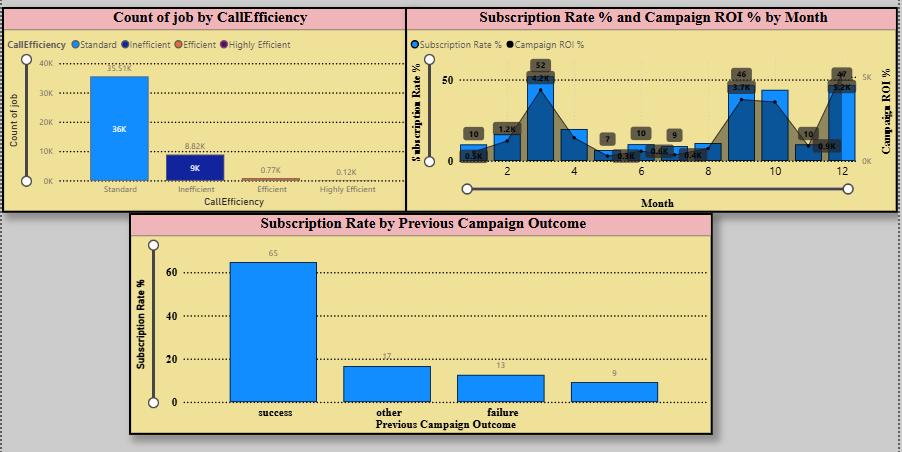

What the dashboard file says about the page in this screenshot:
{"tool":"powerbi","page":{"name":"Campaign Optimization Analysis","canvas":[1280,720],"ordinal":2},"visuals":[{"type":"columnChart","title":"Count of job by CallEfficiency","fields":{"Y":["CountNonNull(bank-full.job)"],"Category":["bank-full.CallEfficiency"],"Series":["bank-full.CallEfficiency"]},"box":[0,47.1,588.6,294.3],"z":0},{"type":"lineStackedColumnComboChart","title":"Subscription Rate % and Campaign ROI % by Month","fields":{"Category":["bank-full.MonthNumber"],"Y":["bank-full.Subscription Rate %"],"Y2":["bank-full.Campaign ROI %"]},"box":[575.7,47.1,704.3,294.3],"z":1000},{"type":"clusteredColumnChart","title":"Subscription Rate by Previous Campaign Outcome","fields":{"Category":["bank-full.poutcome"],"Y":["bank-full.Subscription Rate %"]},"box":[181.4,341.4,834.3,317.1],"z":2000}]}

Visuals, with their boxes on the page's 1280x720 design canvas (x1, y1, x2, y2). These are canvas units, not pixel positions in the 902x452 screenshot, which may show the page scaled, cropped or inside an application window:
"Count of job by CallEfficiency" columnChart: [0,47,589,341]
"Subscription Rate % and Campaign ROI % by Month" lineStackedColumnComboChart: [576,47,1280,341]
"Subscription Rate by Previous Campaign Outcome" clusteredColumnChart: [181,341,1016,658]
